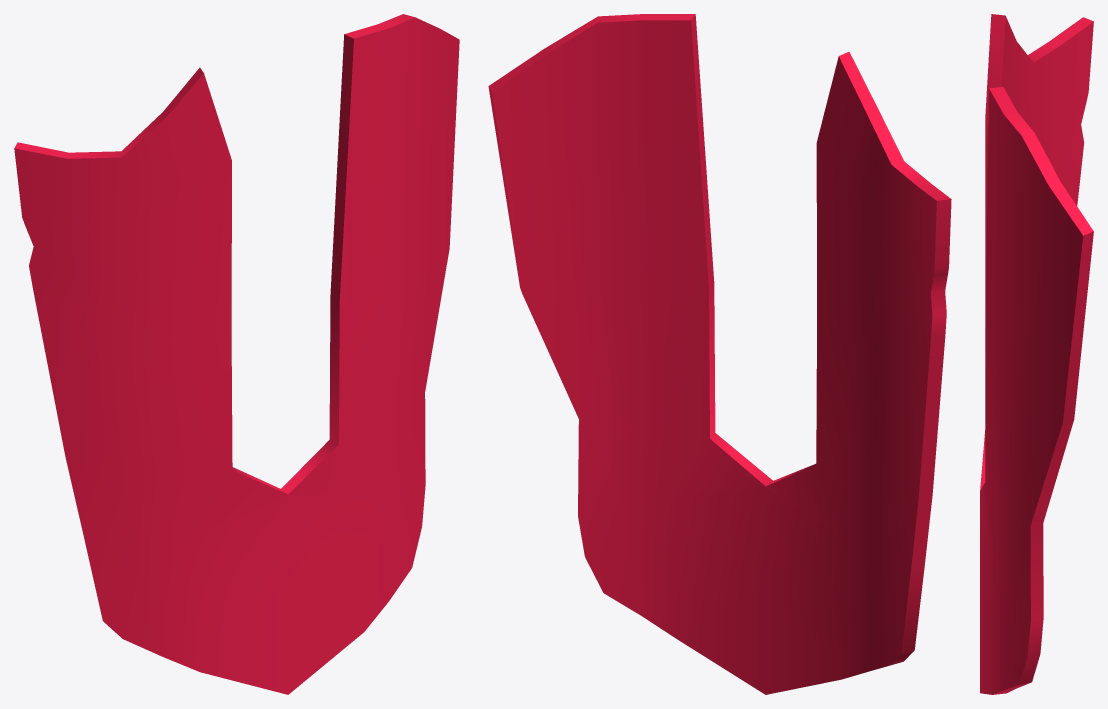
Rendered from shield02.FBX.
3 renders of one model, left to right at view 1: azimuth 30°, elevation 25°; view 2: azimuth 150°, elevation 25°; view 3: azimuth 270°, elevation 25°, orthographic. The views are drawn at different scales.
Parts seen in each view (by area): view 1: Box012; view 2: Box012; view 3: Box012.
Part boxes in pixels (x1=…): Box012: x1=14, y1=14, x2=459, y2=694; Box012: x1=488, y1=14, x2=951, y2=694; Box012: x1=980, y1=14, x2=1093, y2=694.
Bounding box in the file's own units: 170 × 232 × 37.43.
